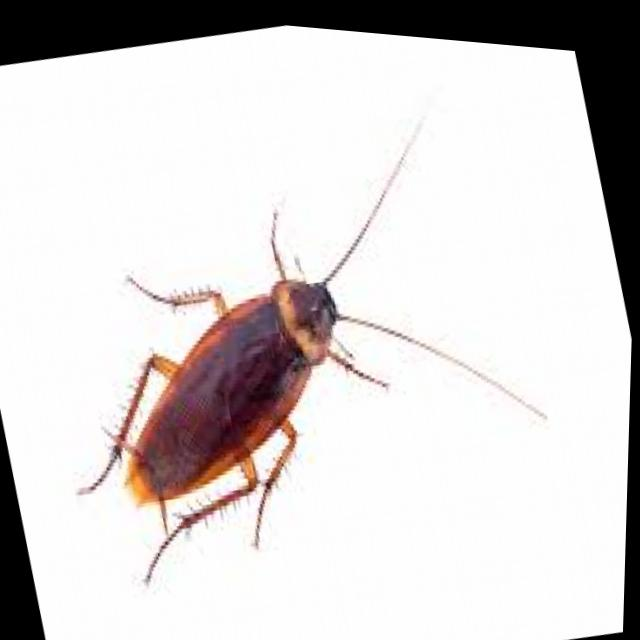Cockroach: (0, 47, 588, 630)
